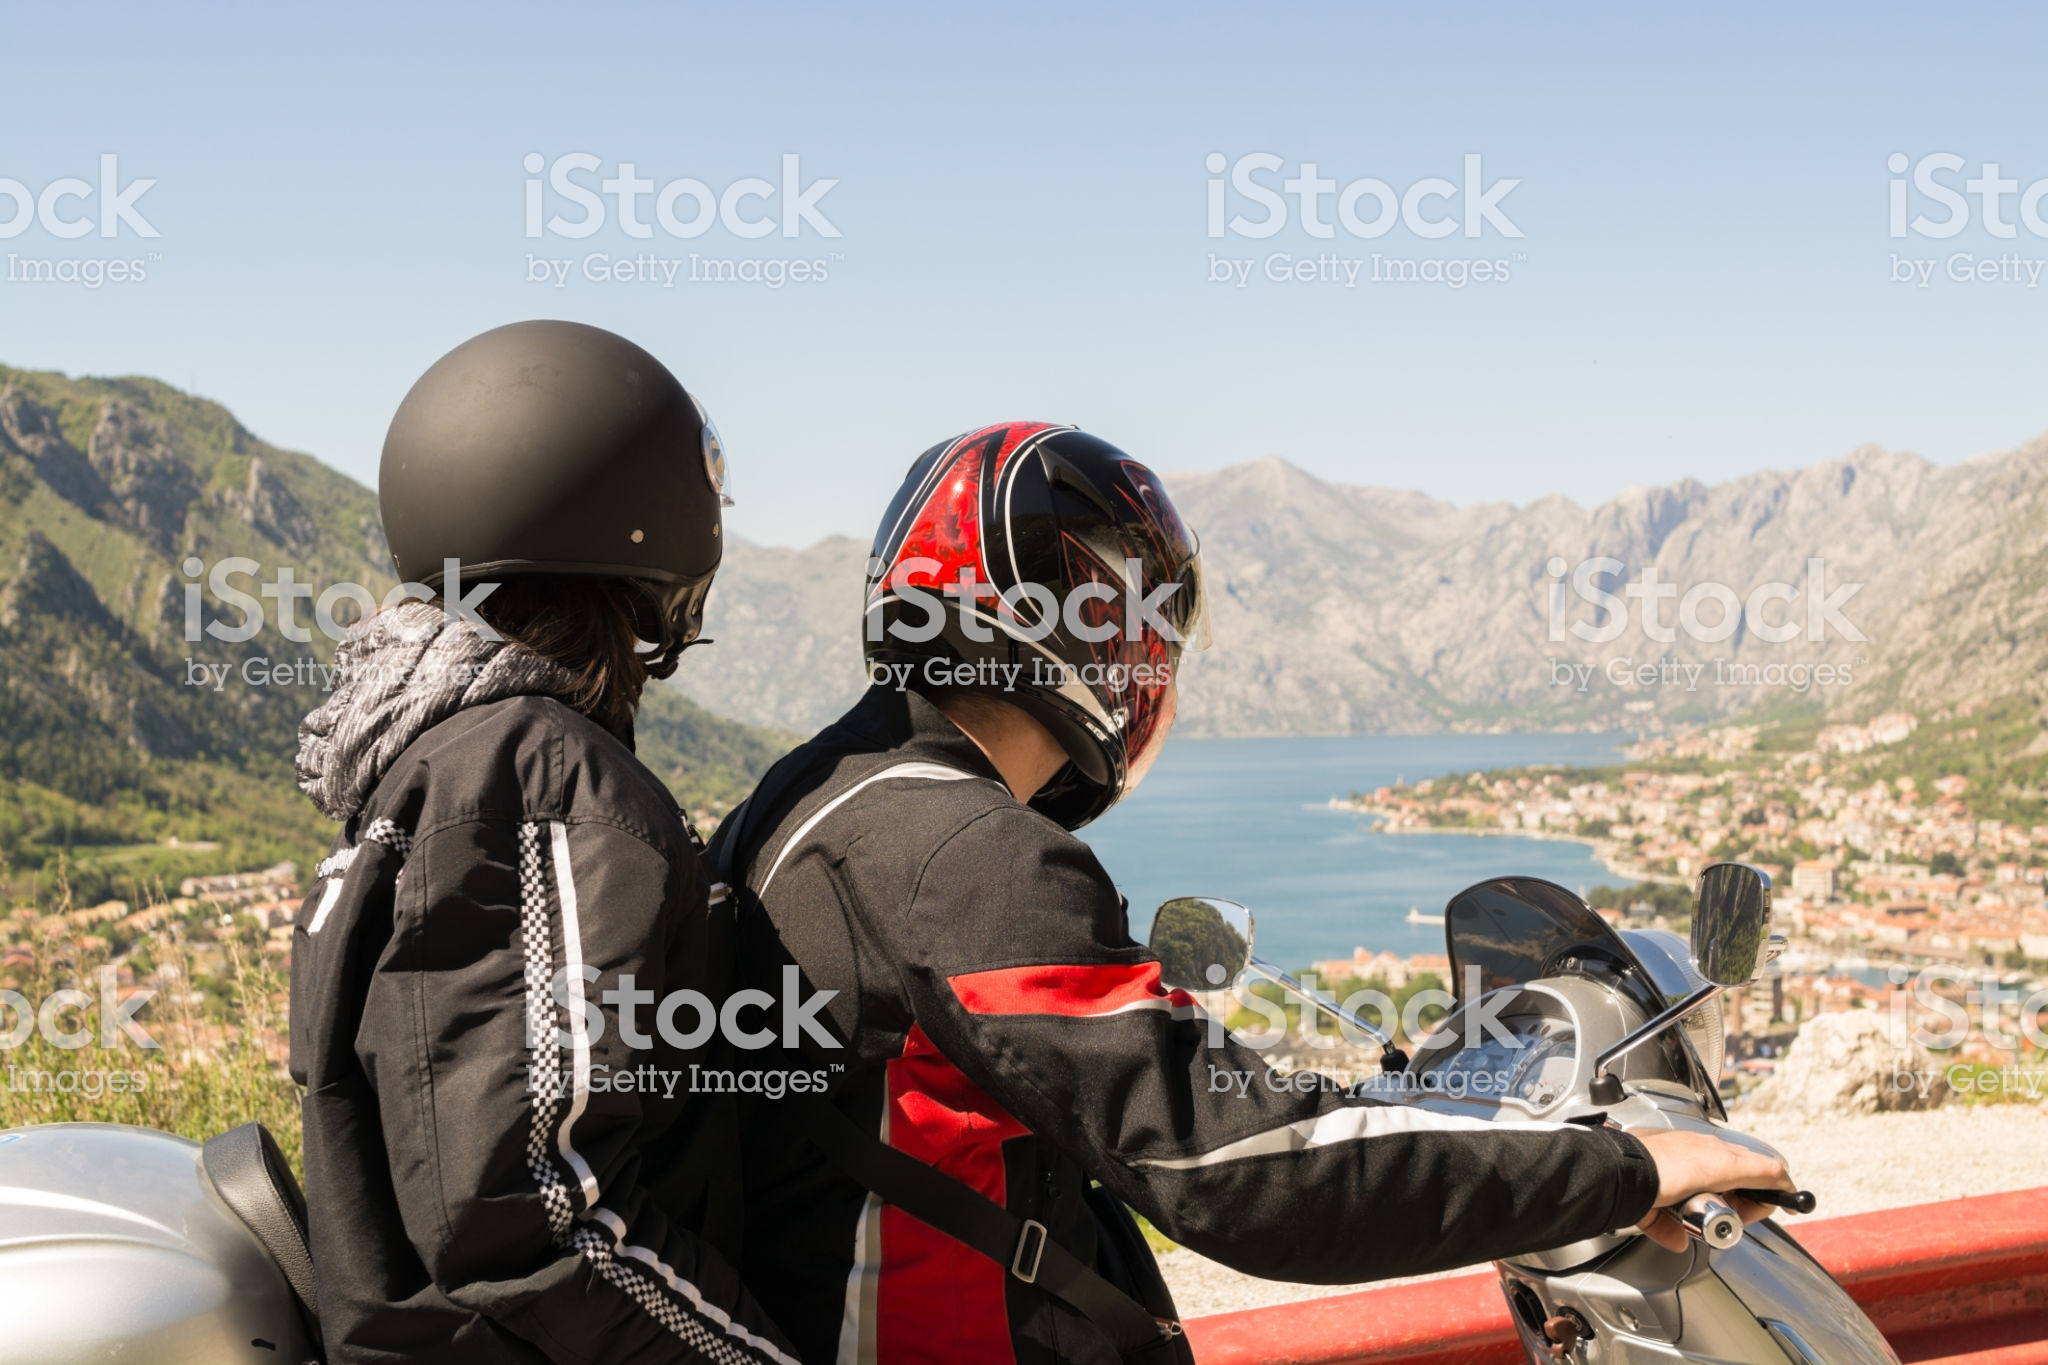helmet: (856, 392, 1182, 756), (394, 318, 746, 628)
